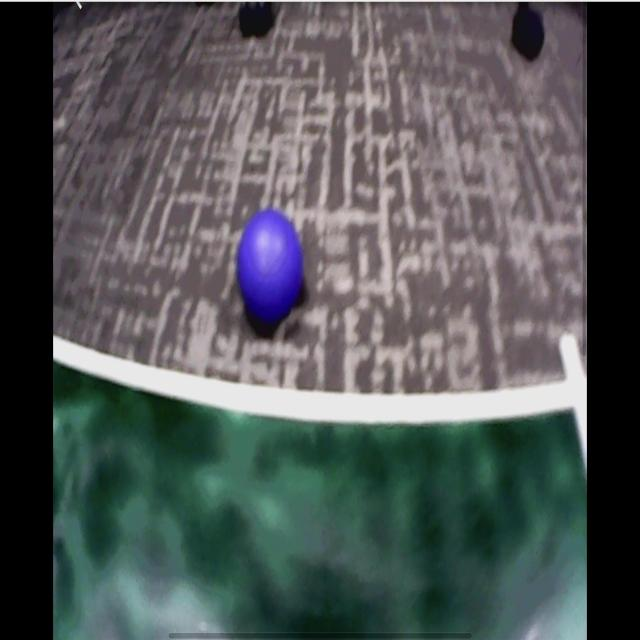ball: (239, 211, 304, 323)
